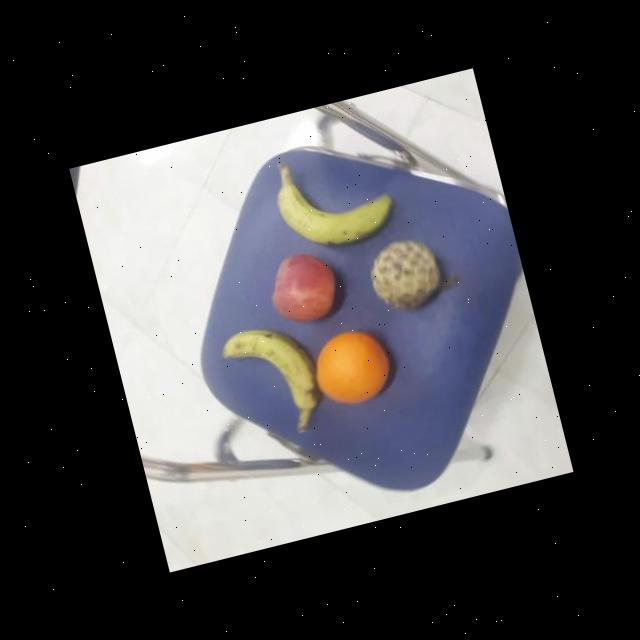Sakya fruit: (360, 231, 446, 316)
apple: (260, 243, 342, 332)
banana: (212, 311, 324, 434), (270, 159, 398, 259)
orange: (300, 318, 398, 416)
